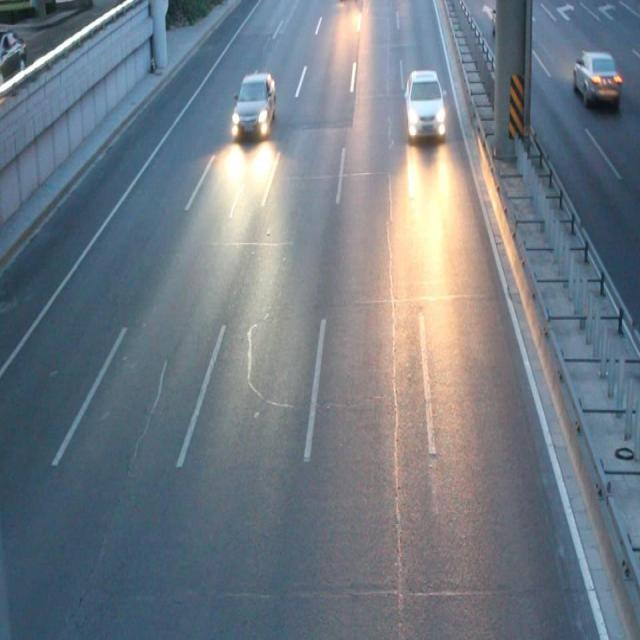car: (404, 70, 444, 135), (232, 74, 274, 135), (572, 51, 618, 101), (489, 8, 529, 44)
